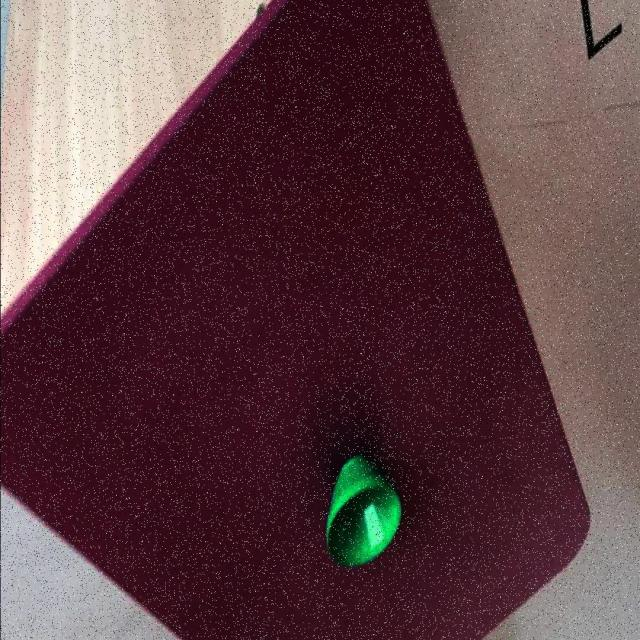Bowl: (0, 0, 594, 640), (326, 456, 402, 570)
